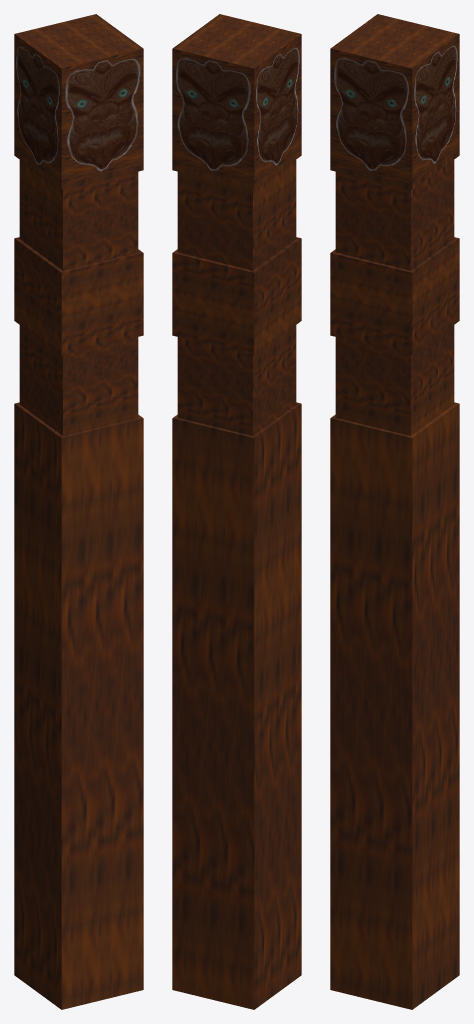
File: Maori_Pou_Whenua.dae
3 renders of one model, left to right at view 1: azimuth 30°, elevation 25°; view 2: azimuth 150°, elevation 25°; view 3: azimuth 330°, elevation 25°, orthographic.
Parts seen in each view (by area): view 1: Cube.094; view 2: Cube.094; view 3: Cube.094.
Boxes of the visible parts, x1=… form: Cube.094: x1=14, y1=14, x2=143, y2=1009; Cube.094: x1=172, y1=14, x2=301, y2=1009; Cube.094: x1=330, y1=14, x2=459, y2=1009.
Bounding box in the file's own units: 1.91 × 1.91 × 21.02.
1 material, 1 textured.
